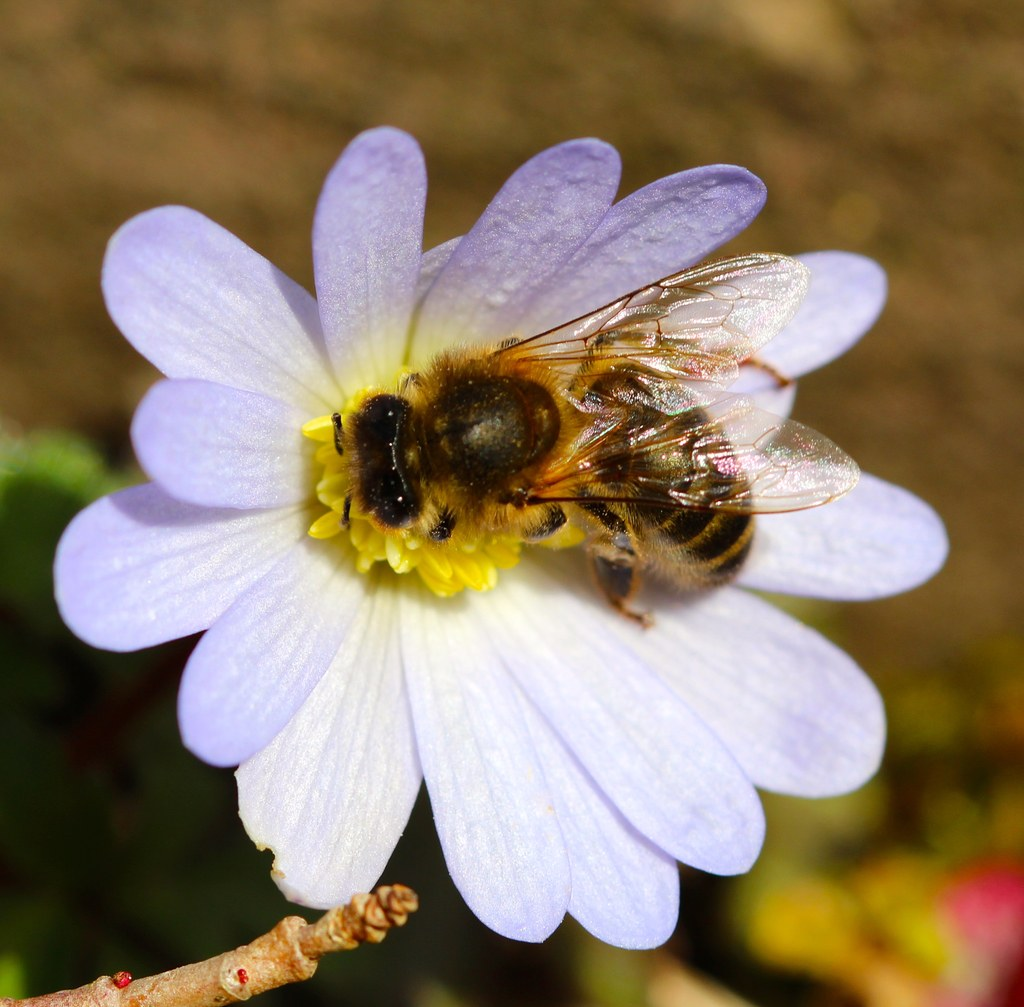bee: (323, 250, 855, 621)
